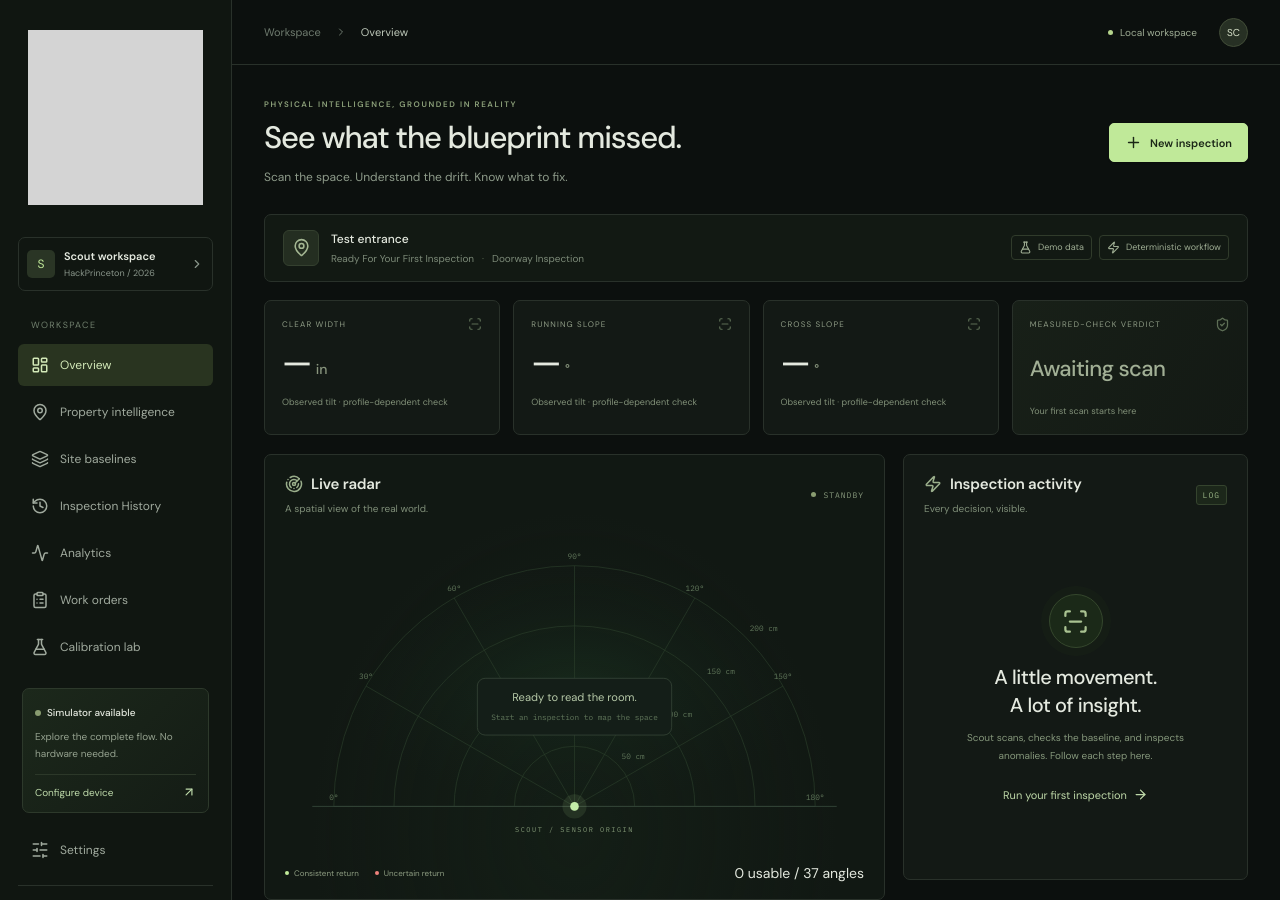
Test: closes the new inspection dialog with Escape
The image size is (1280, 900).
Check: the heading "See what the blueprint missed." is shown, box 264,119 -> 681,158
Click the button "New inspection": (1179, 143) 1109,124 -> 1248,162
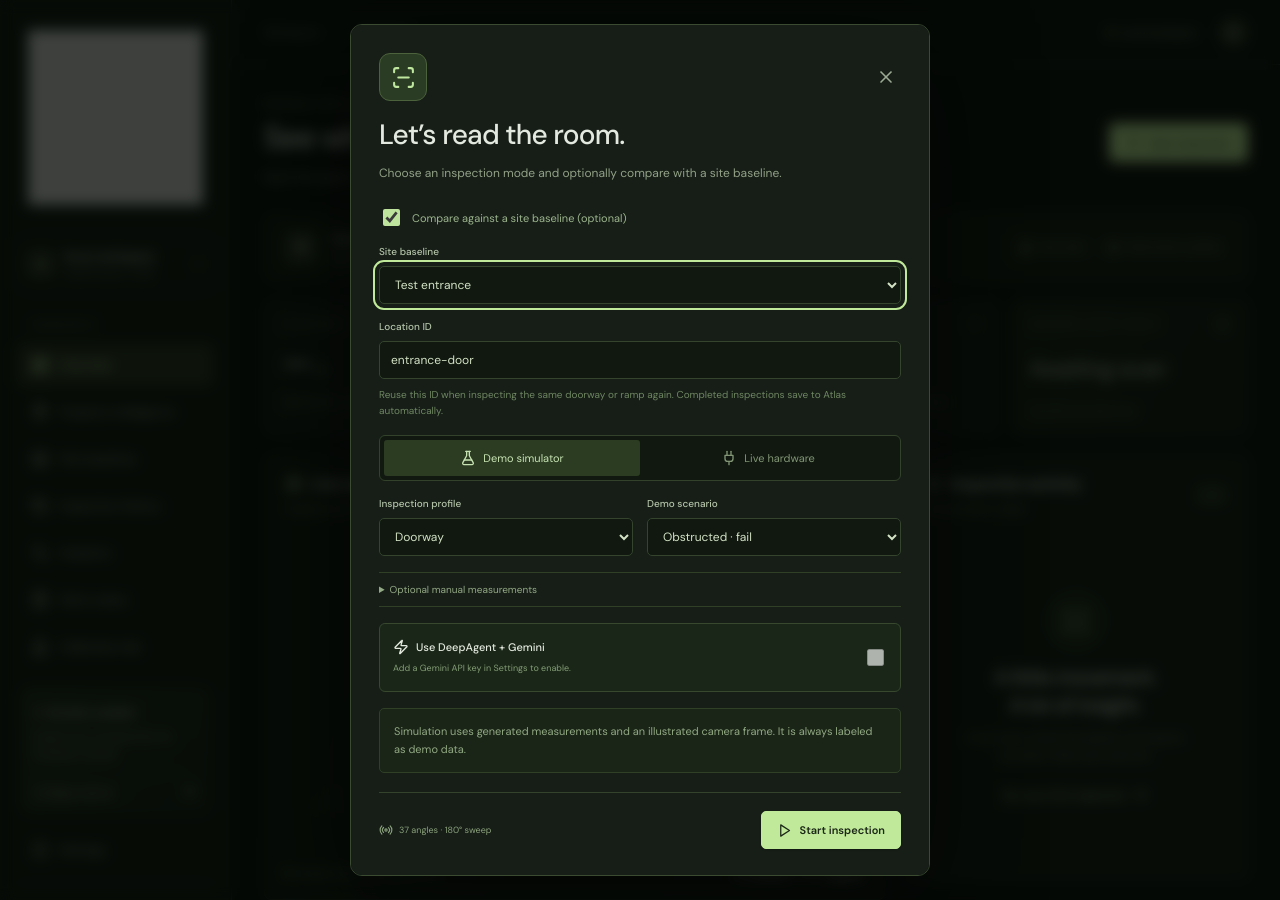
Press Escape
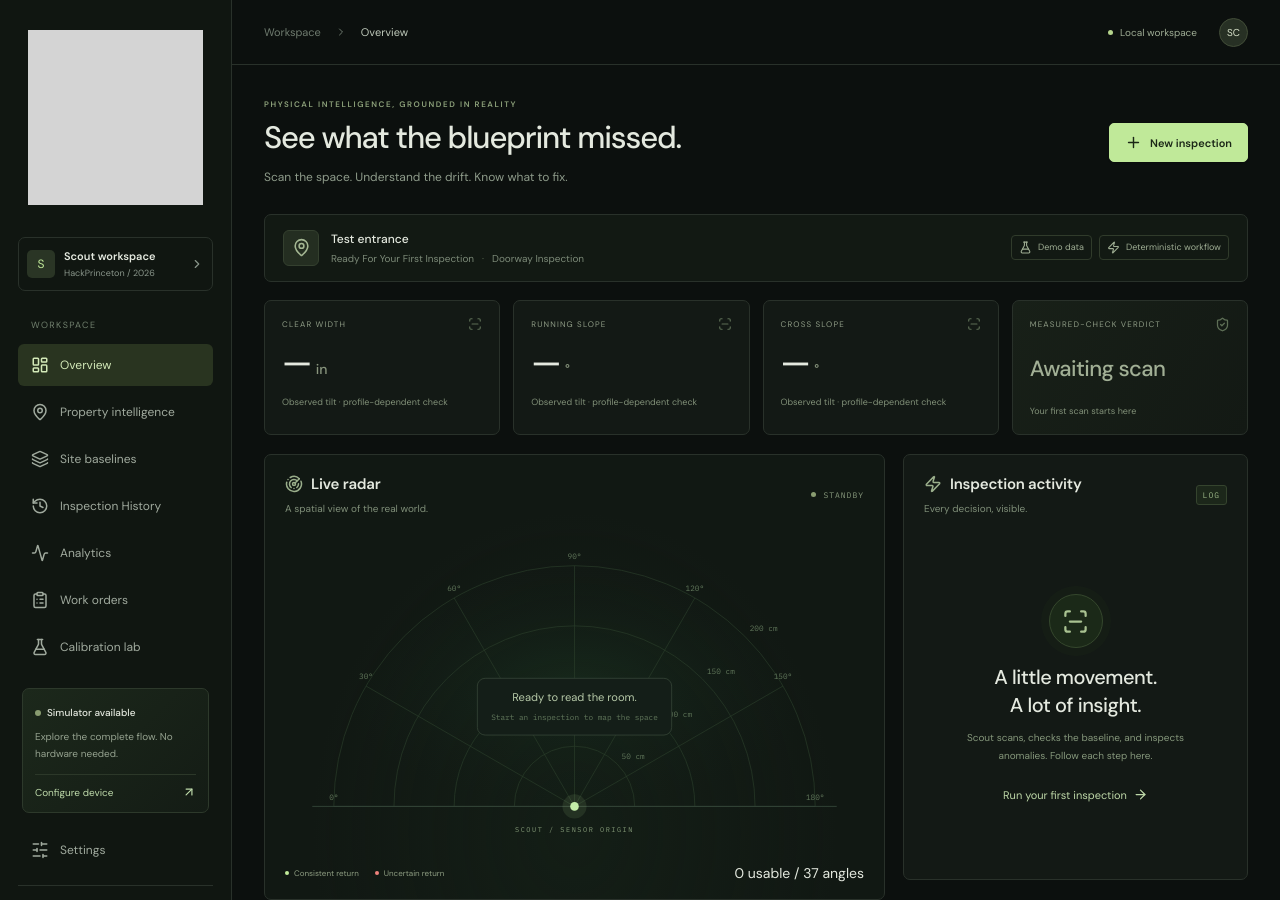
Check: the dialog is gone
